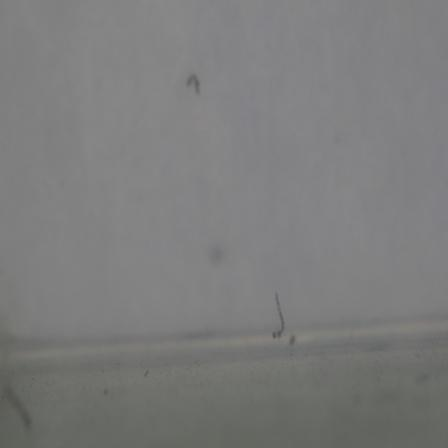Jentik-Nyamuk: (268, 288, 289, 347)
